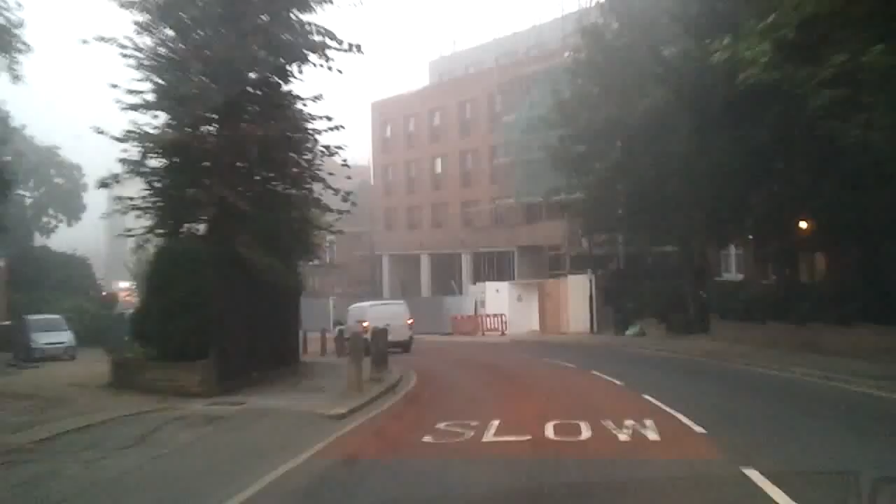car: (332, 299, 415, 355), (12, 312, 77, 362)
